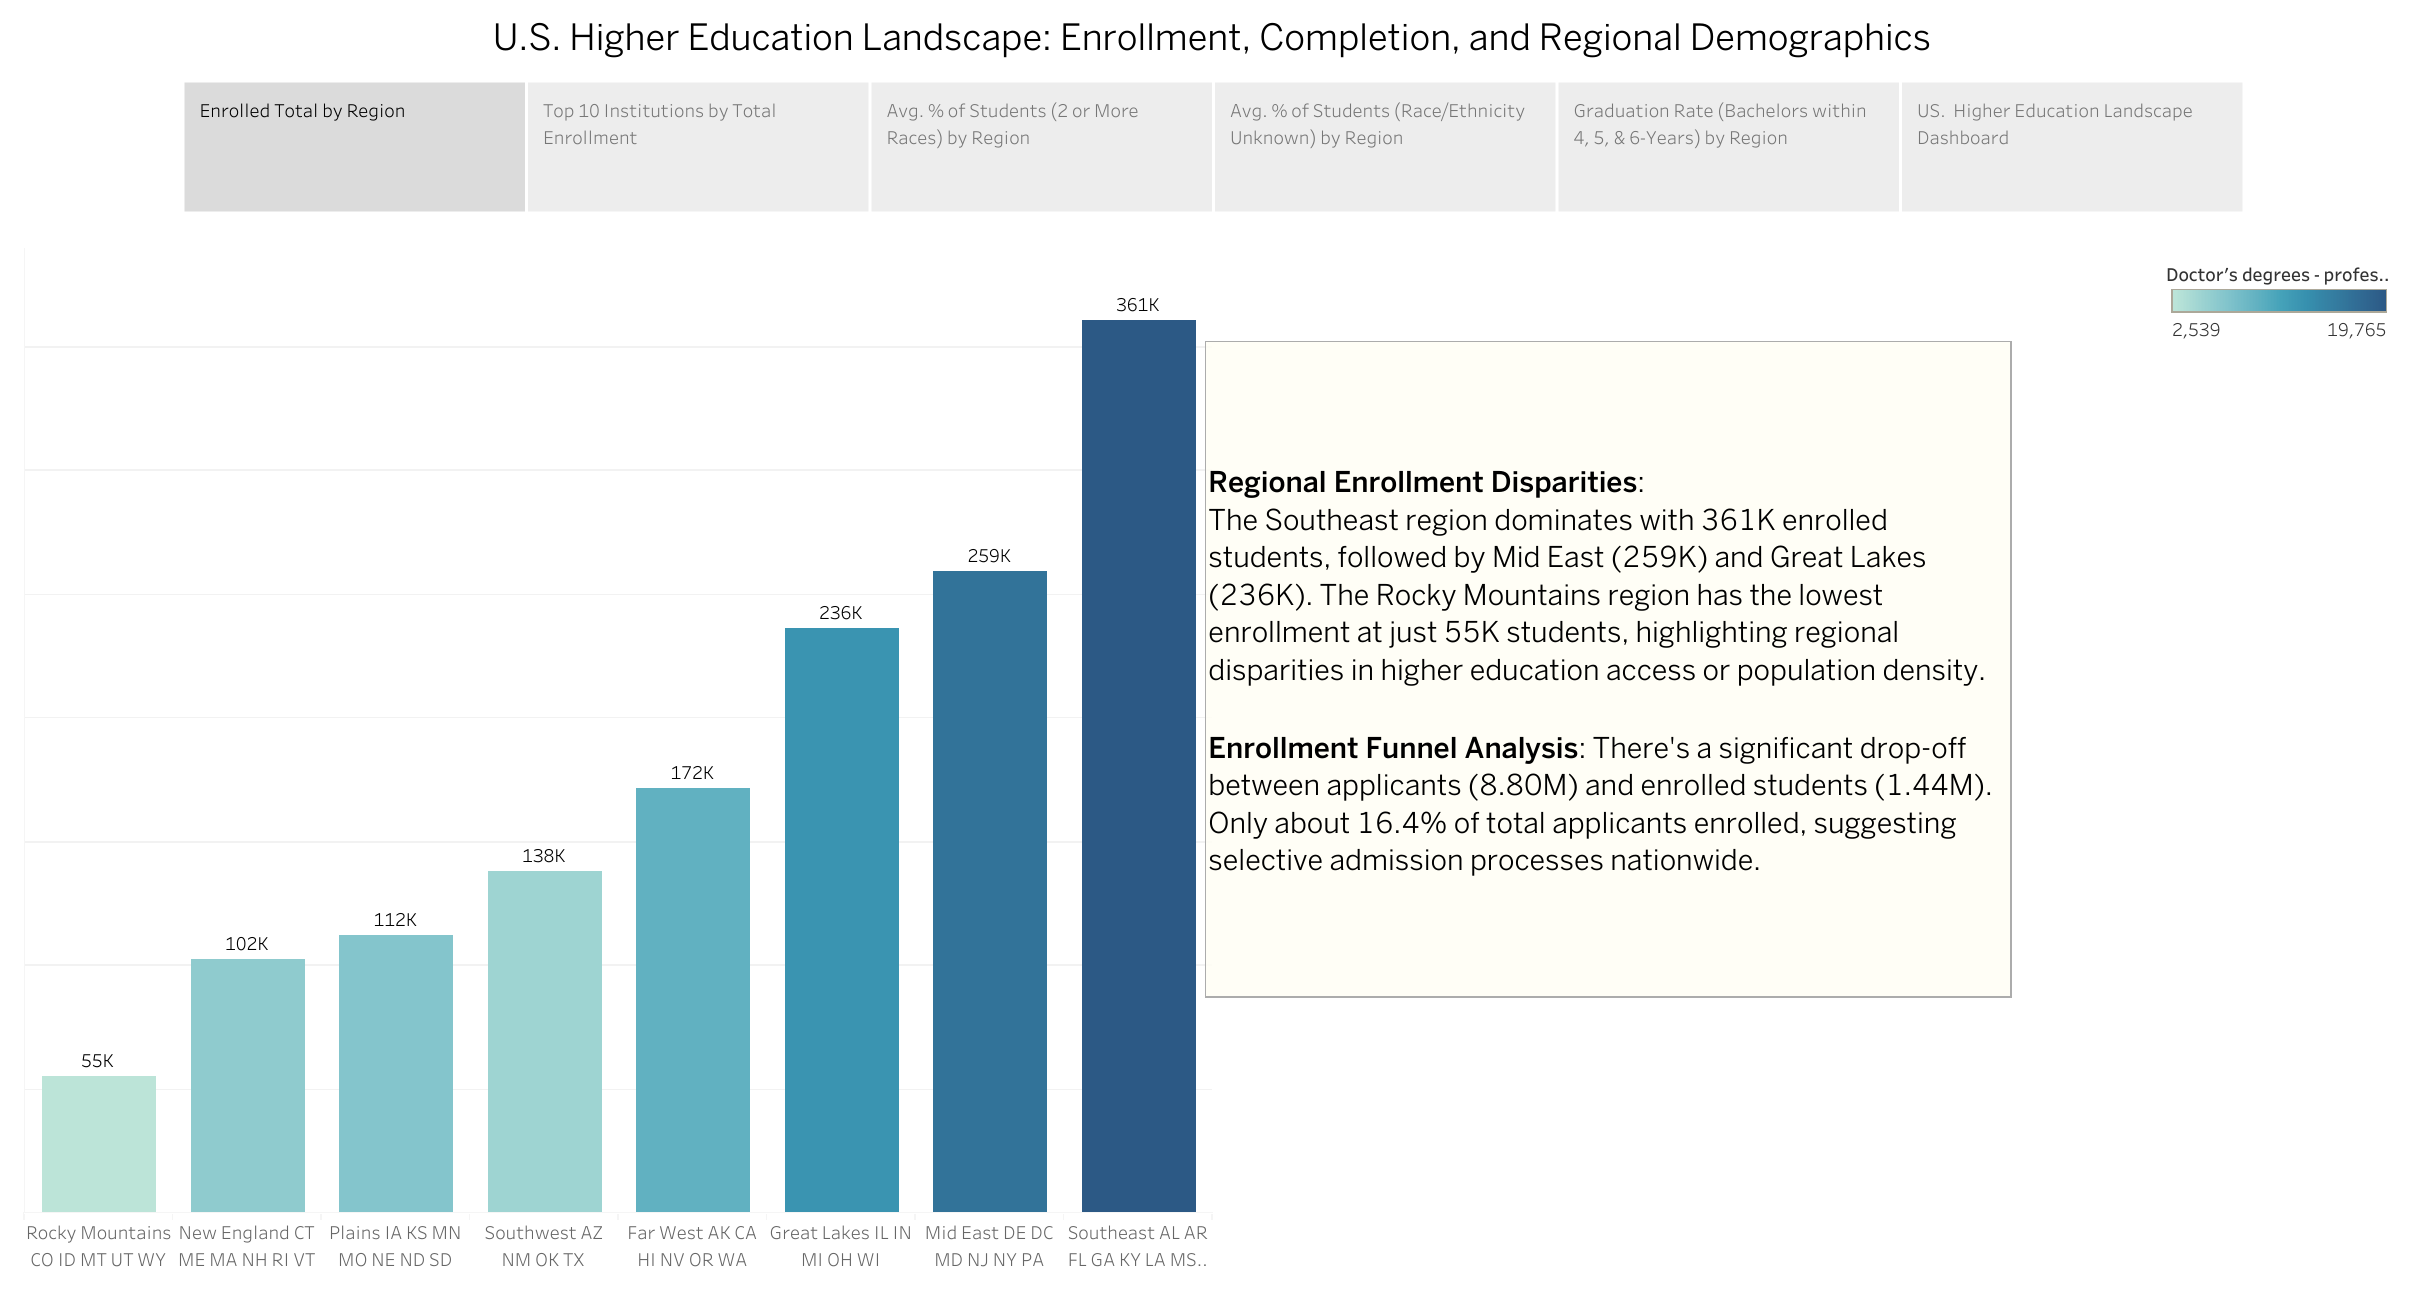

What the dashboard file says about the page in this screenshot:
{"tool":"tableau","page":{"name":"IPEDS Dashboard","canvas":[1000,1000],"units":"permille","ordinal":1},"visuals":[{"type":"image","param":"Image/Dashboard Layout_IPEDS_01.jpg","box":[9.9,10,984.2,980.1]},{"type":"worksheet","title":"Summary Cards","mark":"Automatic","box":[22.4,72.3,964.5,157.1]},{"type":"filter","title":"Enrolled Total  by Region","param":"[federated.0bdz8qa1xbihwp1df5jav1ethrqk].[none:Geographic region:nk]","box":[642.1,233.2,338.8,68.6]},{"type":"worksheet","title":"Enrolled Total  by Region","mark":"Automatic","rows":["Enrolled total"],"cols":["Geographic region"],"box":[27.6,235.7,299.3,366.6]},{"type":"worksheet","title":"Top 10 Institutions by Total Enrollment","mark":"Automatic","rows":["Enrolled total"],"cols":["Name"],"box":[333.6,236.9,300.7,362.8]},{"type":"worksheet","title":"Graduation Rate by Region - 45-5 Years Bachelors","mark":"Automatic","cols":["Geographic region"],"box":[643.4,306.7,337.5,670.8]},{"type":"legend","title":"Graduation Rate by Region - 45-5 Years Bachelors","param":"[federated.0bdz8qa1xbihwp1df5jav1ethrqk].[:Measure Names]","box":[657.2,438.9,149.3,117.2]},{"type":"worksheet","title":"Avg % of Students (Ethnicity/Race Unknown) by Region","mark":"Automatic","rows":["Percent of total enrollment that are Race/ethnicity unknown"],"cols":["Geographic region"],"box":[333.6,609.7,301.3,365.3]},{"type":"worksheet","title":"Avg % of Students","mark":"Automatic","rows":["Percent of total enrollment that are two or more races"],"cols":["Geographic region"],"box":[24.3,611,300.7,364.1]}]}

Visuals, with their boxes on the dashboard's canvas, which has no fixed pixel size, in thousandths of its width and height (x1, y1, x2, y2). These are canvas units, not pixel positions in the 2423x1295 screenshot, which may show the page scaled, cropped or inside an application window:
image: (10, 10, 994, 990)
"Summary Cards" worksheet: (22, 72, 987, 229)
"Enrolled Total  by Region" filter: (642, 233, 981, 302)
"Enrolled Total  by Region" worksheet: (28, 236, 327, 602)
"Top 10 Institutions by Total Enrollment" worksheet: (334, 237, 634, 600)
"Graduation Rate by Region - 45-5 Years Bachelors" worksheet: (643, 307, 981, 978)
"Graduation Rate by Region - 45-5 Years Bachelors" legend: (657, 439, 806, 556)
"Avg % of Students (Ethnicity/Race Unknown) by Region" worksheet: (334, 610, 635, 975)
"Avg % of Students" worksheet: (24, 611, 325, 975)
